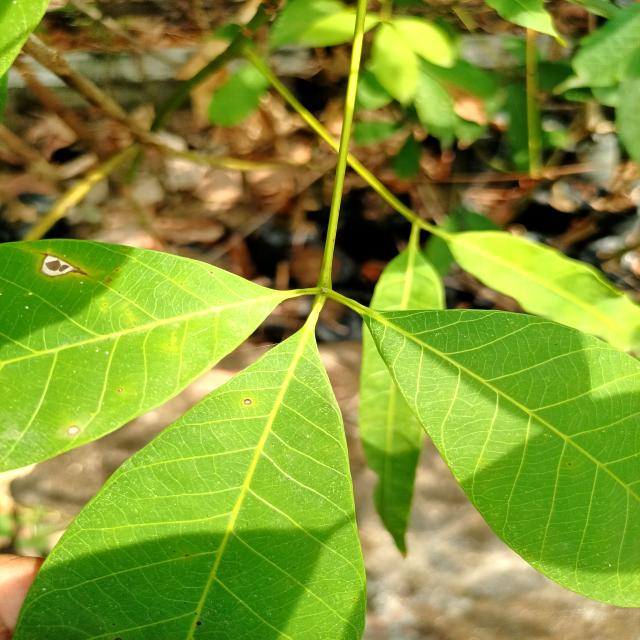Colletotrichum: (67, 426, 81, 436), (244, 398, 252, 404), (196, 621, 201, 626)
